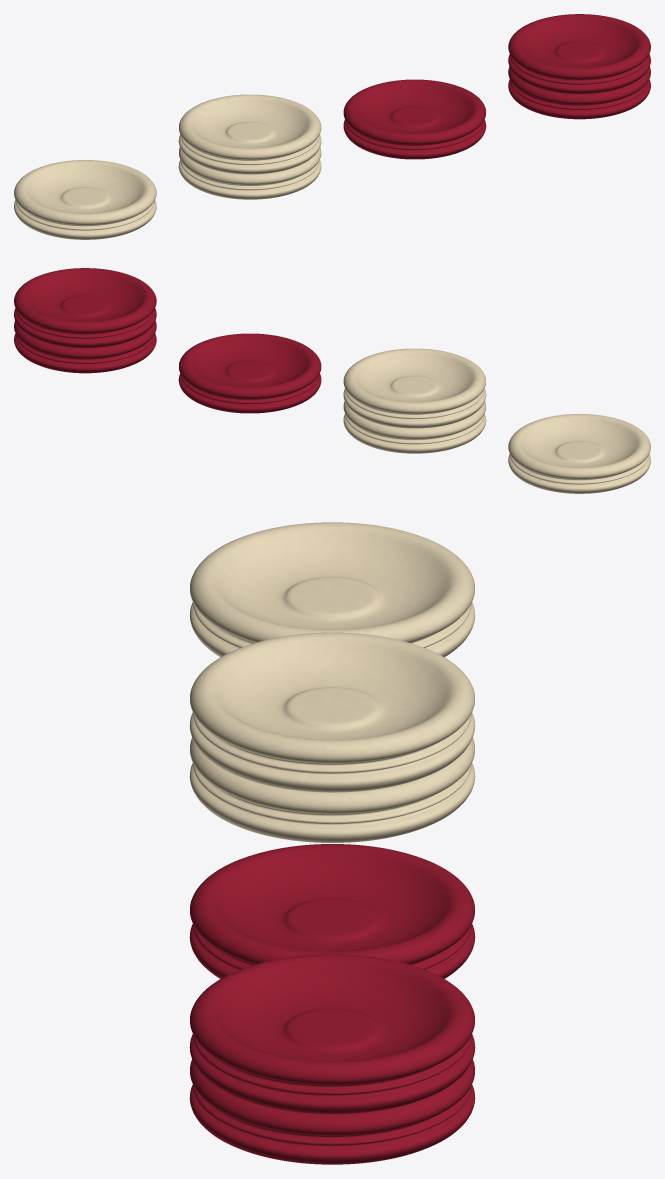
The model's file is club.glb.
3 views of the same model, one above another, from view 1: azimuth 30°, elevation 25°; view 2: azimuth 150°, elevation 25°; view 3: azimuth 270°, elevation 25° (orthographic). The views are drawn at different scales.
Visible parts, largest first — view 1: light_king counter 2, dark_man counter 1, light_man counter 1, dark_king counter 2, light_king counter 1, dark_king counter 1; view 2: light_king counter 2, dark_man counter 1, light_man counter 1, dark_king counter 2, light_king counter 1, dark_king counter 1; view 3: light_king counter 2, dark_king counter 2, dark_man counter 1, light_man counter 1, dark_king counter 1, light_king counter 1.
Boxes of the visible parts, x1,y1,x2,y2 form: light_king counter 2: [178, 94, 321, 174]; dark_man counter 1: [343, 79, 486, 159]; light_man counter 1: [14, 160, 156, 239]; dark_king counter 2: [508, 14, 650, 93]; light_king counter 1: [178, 147, 321, 199]; dark_king counter 1: [508, 67, 650, 119]; light_king counter 2: [343, 348, 486, 428]; dark_man counter 1: [178, 333, 321, 413]; light_man counter 1: [508, 414, 650, 493]; dark_king counter 2: [14, 268, 156, 347]; light_king counter 1: [343, 401, 486, 453]; dark_king counter 1: [14, 321, 156, 373]; light_king counter 2: [189, 632, 475, 792]; dark_king counter 2: [189, 954, 475, 1114]; dark_man counter 1: [189, 844, 475, 978]; light_man counter 1: [189, 522, 475, 657]; dark_king counter 1: [189, 1059, 475, 1164]; light_king counter 1: [189, 738, 475, 842].
Bounding box in the file's own units: 0.21 × 0.0162 × 0.042.
2 materials, 2 textured.
